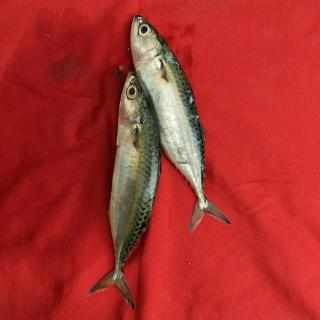Ikan: (92, 11, 238, 313)
